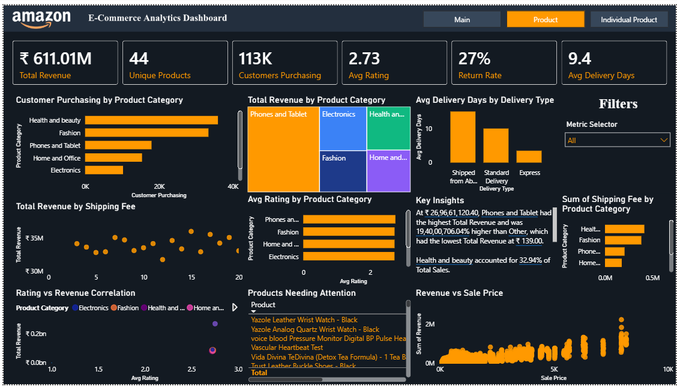

The dashboard page shown, as its layout file describes it:
{"tool":"powerbi","page":{"name":"Product","canvas":[1280,720],"ordinal":1},"visuals":[{"type":"image","box":[0,0,1280,720],"z":0},{"type":"cardVisual","fields":{"Data":["Orders.Total Revenue","Orders.Unique Products","Orders.Customer Purchasing","Orders.Avg Rating","Orders.Return Rate","Orders.Avg Delivery Days"]},"box":[0,50,1280,118.6],"z":1000},{"type":"slicer","fields":{"Values":["Metric Selector.Metric Selector"]},"box":[1058.3,213.4,221.4,81.4],"z":2000},{"type":"textbox","box":[1084,167.4,172.9,42.9],"z":3000},{"type":"clusteredBarChart","fields":{"Y":["Orders.Customer Purchasing"],"Category":["Orders.Product Category"]},"box":[18.8,168.8,441.2,203.8],"z":4000},{"type":"treemap","fields":{"Group":["Orders.Product Category"],"Values":["Orders.Total Revenue"]},"box":[460,168.8,320,191.2],"z":5000},{"type":"clusteredBarChart","fields":{"Category":["Orders.Product Category"],"Y":["Orders.Avg Rating"]},"box":[460,357.1,320,178.6],"z":6000},{"type":"scatterChart","title":"Rating vs Revenue Correlation","fields":{"X":["Orders.Avg Rating"],"Size":["Orders.Total Orders"],"Series":["Orders.Product Category"],"Y":["Orders.Total Revenue"]},"box":[18.8,536.2,441.2,183.8],"z":7000},{"type":"scatterChart","fields":{"Y":["Orders.Total Revenue"],"X":["Orders.Shipping Fee"]},"box":[18.6,371.4,441.4,164.3],"z":8000},{"type":"tableEx","title":"Products Needing Attention","fields":{"Values":["Orders.Product","Orders.Total Revenue","Orders.Avg Rating","Orders.Return Rate"]},"box":[460,535,320,185],"z":9000},{"type":"clusteredColumnChart","fields":{"Category":["Orders.Delivery Type"],"Y":["Orders.Avg Delivery Days"]},"box":[780,168.8,277.5,191.2],"z":10000},{"type":"textbox","title":"Key Insights","box":[780,360,278.6,175.7],"z":11000},{"type":"pageNavigator","box":[798.8,10,468.8,32.5],"z":12000},{"type":"scatterChart","title":"Revenue vs Sale Price","fields":{"X":["Orders.Sale Price"],"Y":["Sum(Orders.Revenue)"]},"box":[780,535.7,500,184.3],"z":13000},{"type":"clusteredBarChart","fields":{"Category":["Orders.Product Category"],"Y":["Sum(Orders.Shipping Fee)"]},"box":[1058.1,357,222.1,179.1],"z":14000}]}

Visuals, with their boxes in screenshot pixels (x1, y1, x2, y2), scaled from the page's 1280x720 canvas onto the 677x386 screenshot:
image: 0,0,676,385
cardVisual - Orders.Total Revenue x Orders.Unique Products: 0,27,676,90
slicer - Metric Selector.Metric Selector: 560,114,676,158
textbox: 573,90,665,113
clusteredBarChart - Orders.Customer Purchasing x Orders.Product Category: 10,90,243,200
treemap - Orders.Product Category x Orders.Total Revenue: 243,90,413,193
clusteredBarChart - Orders.Product Category x Orders.Avg Rating: 243,191,413,287
"Rating vs Revenue Correlation" scatterChart: 10,287,243,385
scatterChart - Orders.Total Revenue x Orders.Shipping Fee: 10,199,243,287
"Products Needing Attention" tableEx: 243,287,413,385
clusteredColumnChart - Orders.Delivery Type x Orders.Avg Delivery Days: 413,90,559,193
"Key Insights" textbox: 413,193,560,287
pageNavigator: 422,5,670,23
"Revenue vs Sale Price" scatterChart: 413,287,676,385
clusteredBarChart - Orders.Product Category x Sum(Orders.Shipping Fee): 560,191,676,287
